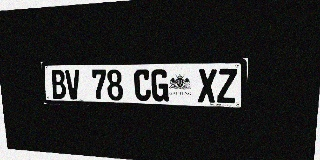7: (91, 69, 107, 100)
8: (106, 69, 123, 100)
B: (51, 70, 66, 99)
C: (134, 69, 151, 101)
G: (151, 69, 169, 102)
V: (65, 70, 81, 99)
X: (198, 69, 217, 103)
Z: (217, 69, 237, 103)
